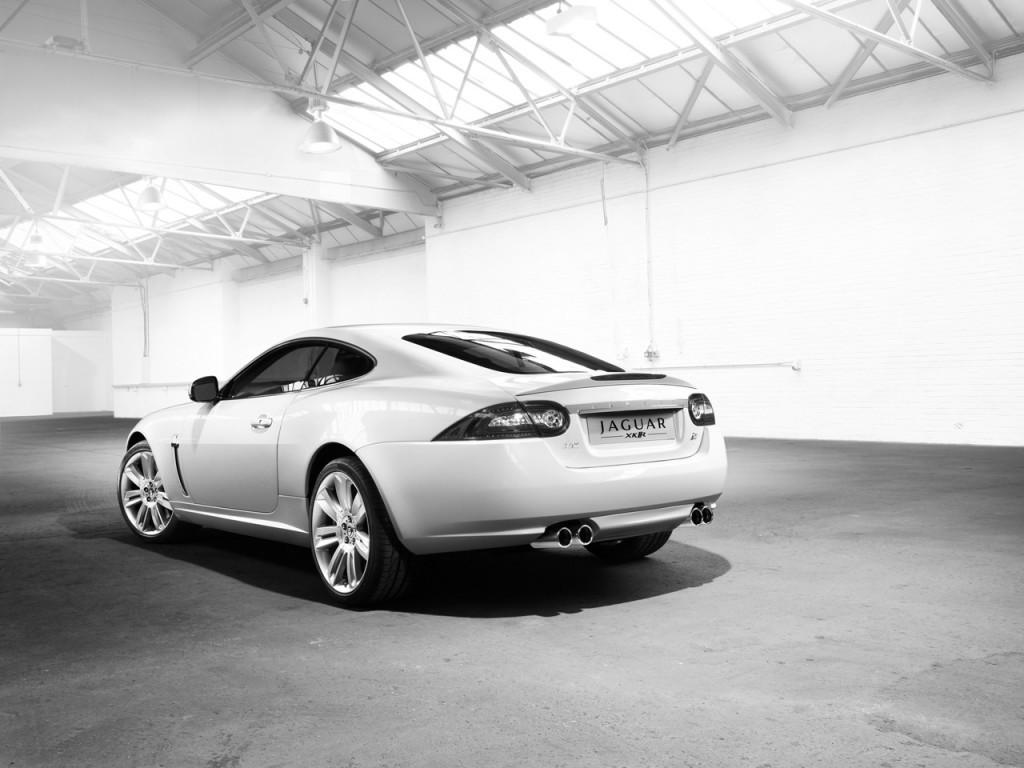car: (116, 324, 733, 602)
